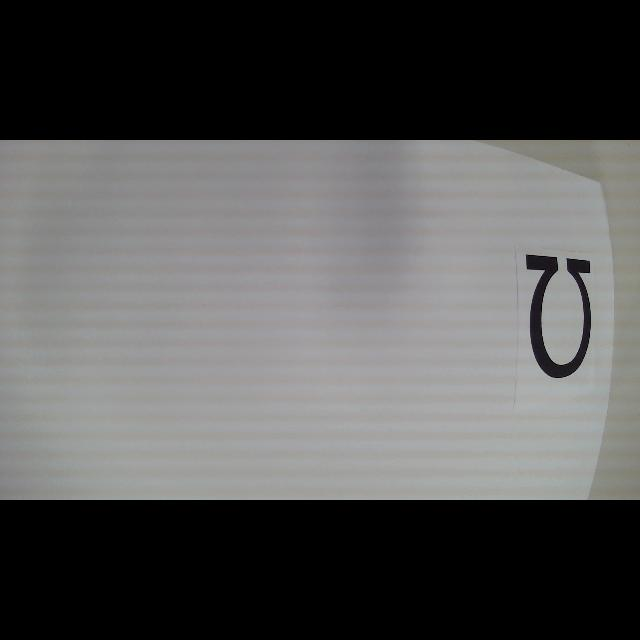OMEGA: (526, 252, 592, 378)
